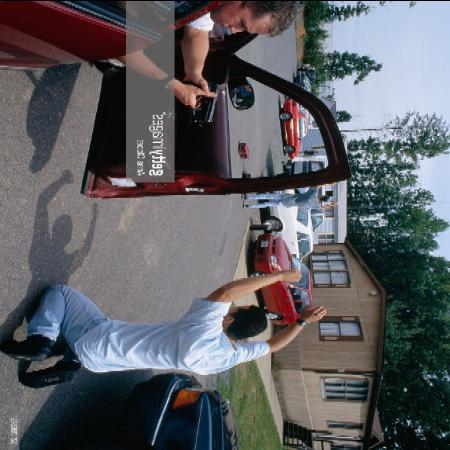Pistol: (192, 79, 225, 129)
